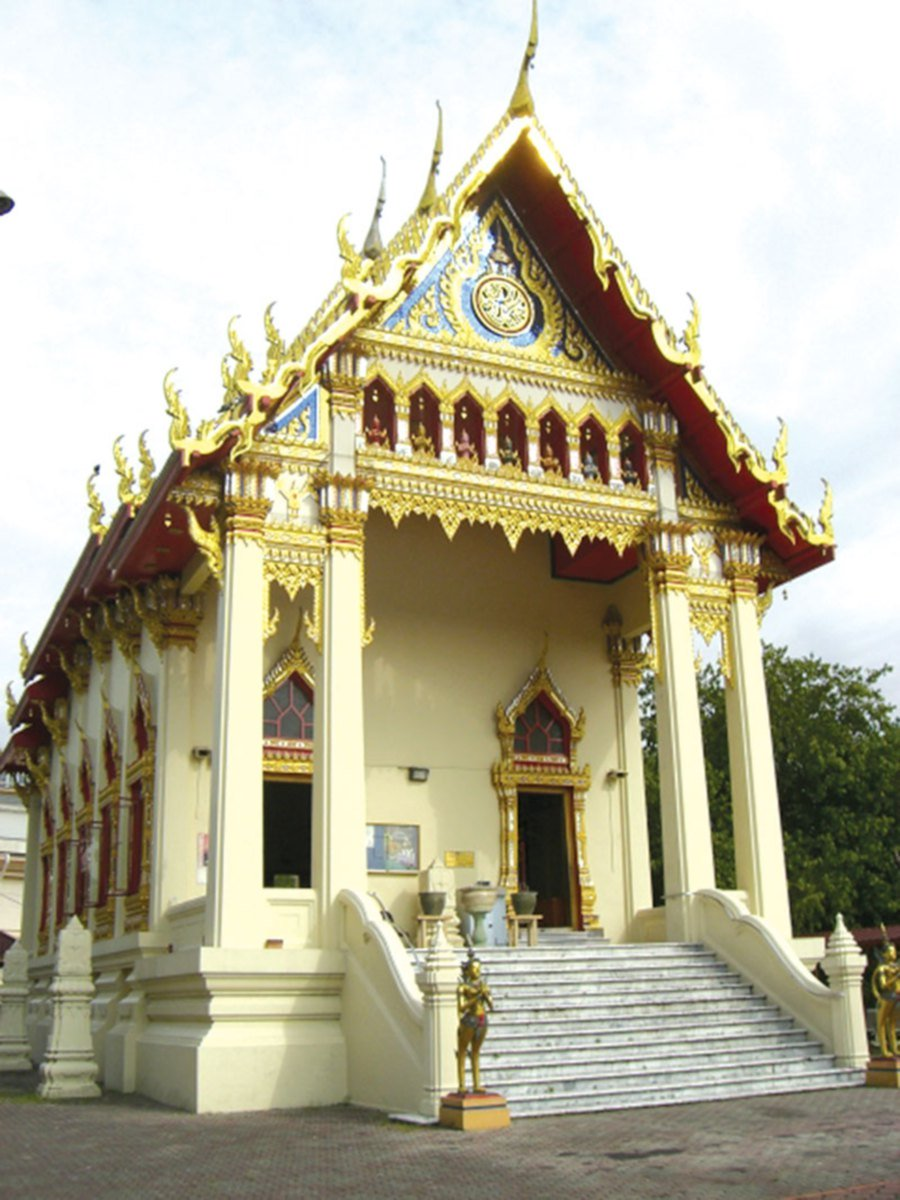Buddhist Temple: (1, 49, 810, 1099)
